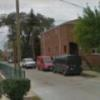cars: (52, 54, 84, 77)
